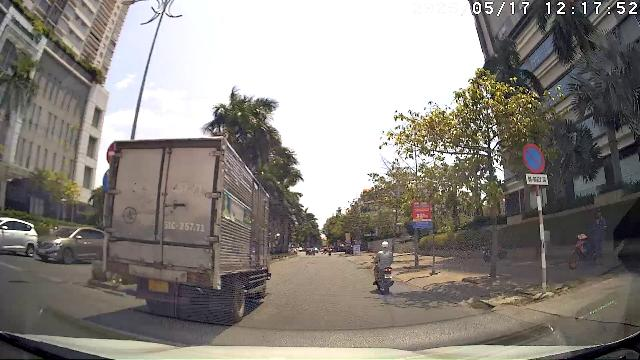131a-cam-do-xe: (522, 143, 546, 173)
